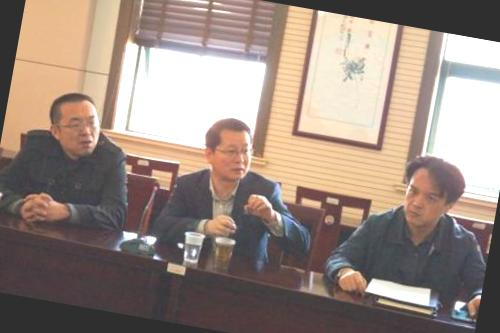no_helmet: (391, 147, 471, 236), (192, 107, 262, 187), (38, 83, 109, 156)
